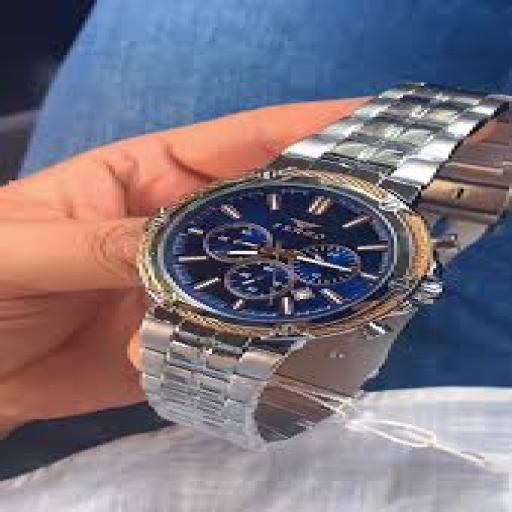KolSaati: (50, 50, 466, 440)
